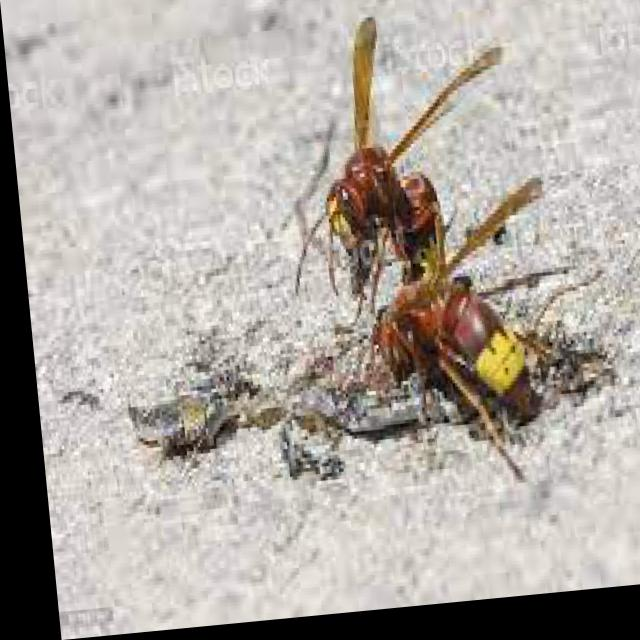Vespa Orientalis: (329, 176, 593, 516), (262, 0, 528, 309)
